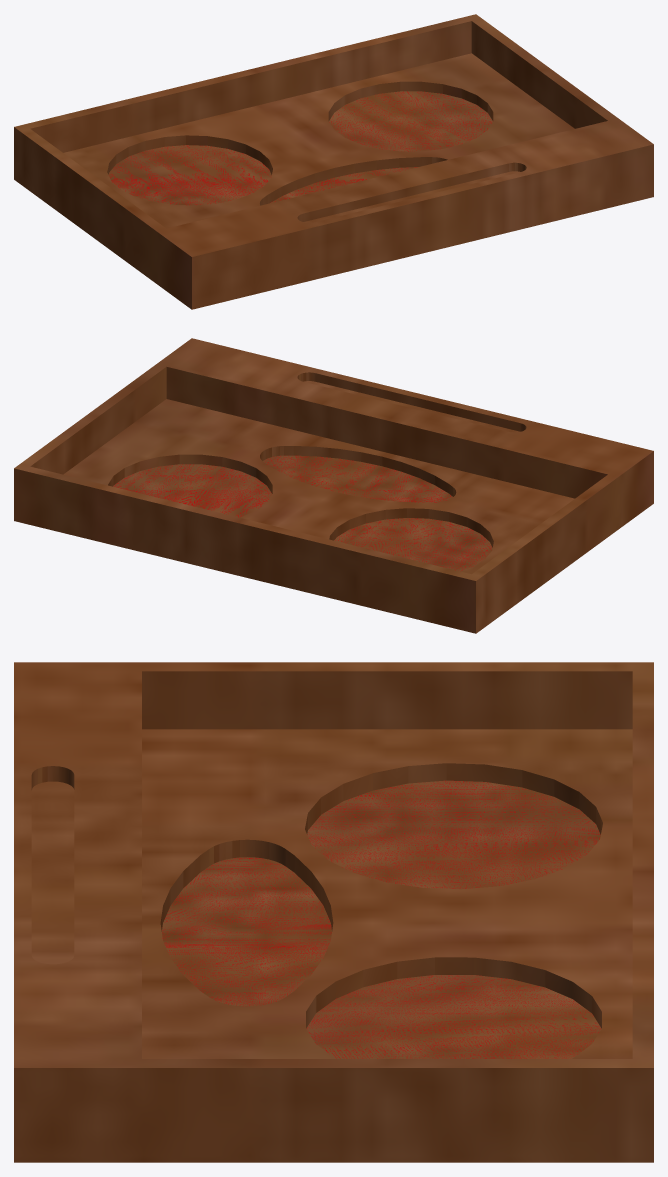
Rendered from original-5.obj.
3 renders of one model, top to bottom at view 1: azimuth 30°, elevation 25°; view 2: azimuth 150°, elevation 25°; view 3: azimuth 270°, elevation 25°, orthographic. The views are drawn at different scales.
Visible parts, largest first — view 1: Group5/mesh9/mesh9-geometry#mesh9-geometry; view 2: Group5/mesh9/mesh9-geometry#mesh9-geometry; view 3: Group5/mesh9/mesh9-geometry#mesh9-geometry.
Boxes of the visible parts, x1,y1,x2,y2 form: Group5/mesh9/mesh9-geometry#mesh9-geometry: (14, 14, 653, 309); Group5/mesh9/mesh9-geometry#mesh9-geometry: (14, 338, 653, 633); Group5/mesh9/mesh9-geometry#mesh9-geometry: (14, 662, 653, 1162).
Bounding box in the file's own units: 0.4819 × 0.0525 × 0.3213.
2 materials, 1 textured.
